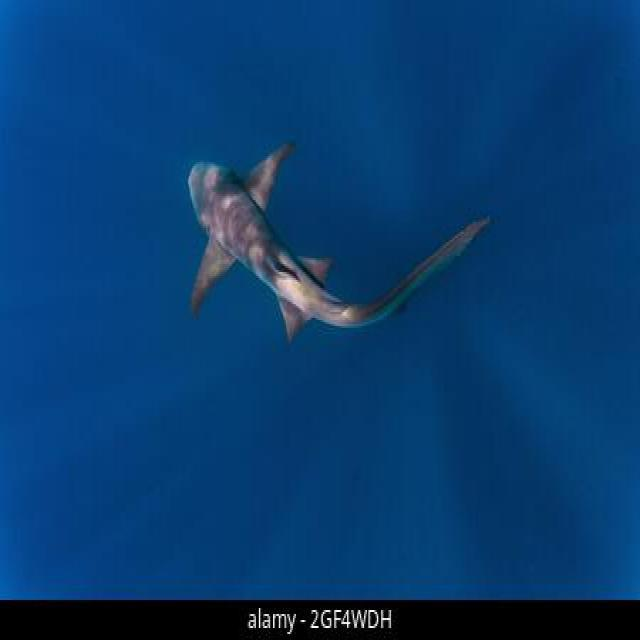Shark: (151, 100, 524, 344)
